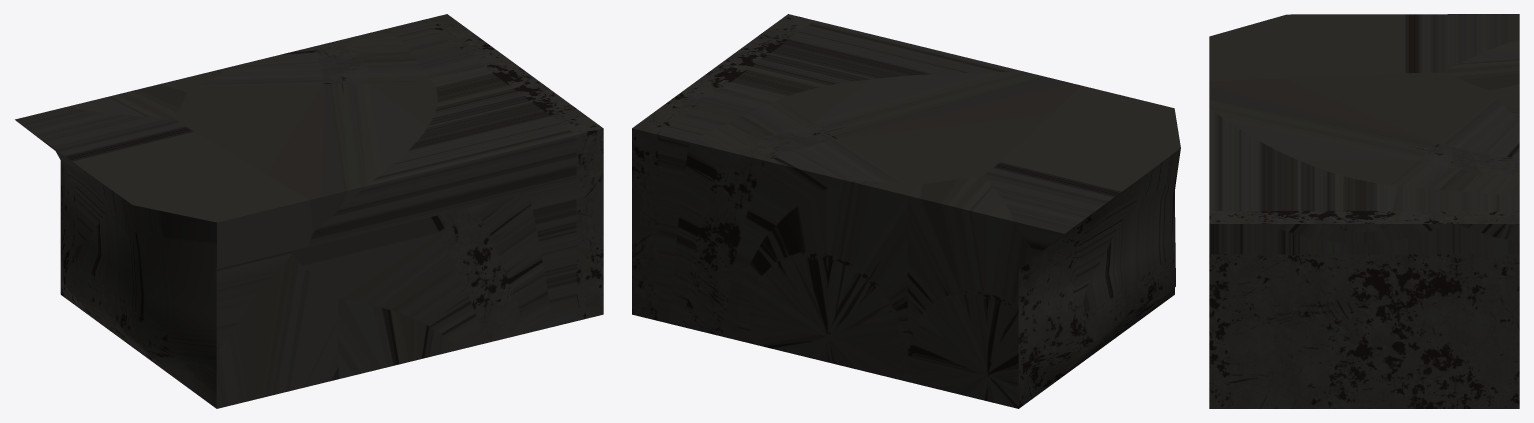
The model's file is Pillar05.FBX.
3 views of the same model, side by side, from view 1: azimuth 30°, elevation 25°; view 2: azimuth 150°, elevation 25°; view 3: azimuth 270°, elevation 25° (orthographic).
Visible parts, largest first — view 1: Box013; view 2: Box013; view 3: Box013.
Boxes of the visible parts, x1,y1,x2,y2 form: Box013: [15, 14, 603, 408]; Box013: [632, 14, 1180, 408]; Box013: [1209, 14, 1519, 408].
Bounding box in the file's own units: 9209 × 3787 × 5757.
